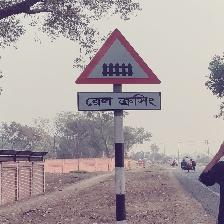Rail-crossing: (74, 29, 162, 112)
